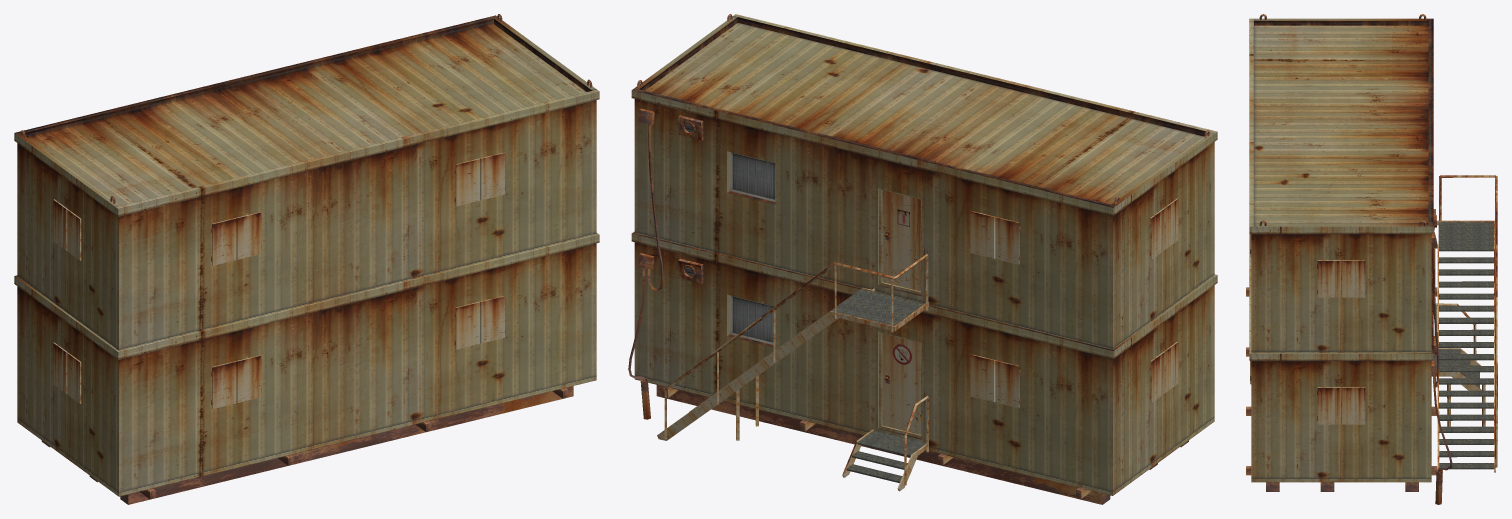
File: container_2.FBX
3 renders of one model, left to right at view 1: azimuth 30°, elevation 25°; view 2: azimuth 150°, elevation 25°; view 3: azimuth 270°, elevation 25°, orthographic. The views are drawn at different scales.
Parts seen in each view (by area): view 1: Mesh Object; view 2: Mesh Object; view 3: Mesh Object.
Boxes of the visible parts, x1,y1,x2,y2 form: Mesh Object: (14,14,599,504); Mesh Object: (628,14,1217,504); Mesh Object: (1246,14,1497,504).
Size of the model in its own units: 10.88 by 7.07 by 5.56.
